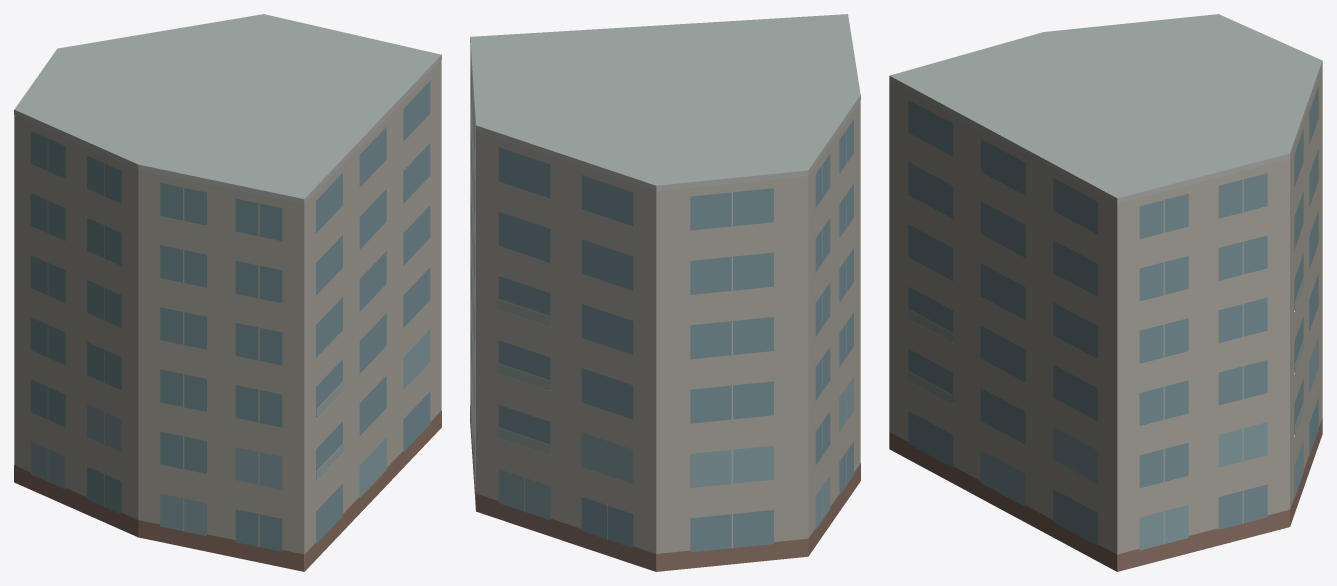
File: survey-upis-32940635.glb
The picture shows the model from 3 angles, left to right: view 1: azimuth 30°, elevation 25°; view 2: azimuth 150°, elevation 25°; view 3: azimuth 270°, elevation 25°; orthographic projection. The views are drawn at different scales.
Parts seen in each view (by area): view 1: survey-upis-32940635.tmp; view 2: survey-upis-32940635.tmp; view 3: survey-upis-32940635.tmp.
Boxes of the visible parts, x1=… form: survey-upis-32940635.tmp: x1=14, y1=14, x2=441, y2=571; survey-upis-32940635.tmp: x1=470, y1=14, x2=860, y2=571; survey-upis-32940635.tmp: x1=889, y1=14, x2=1322, y2=571.
Size of the model in its own units: 17.89 by 16.9 by 17.77.
